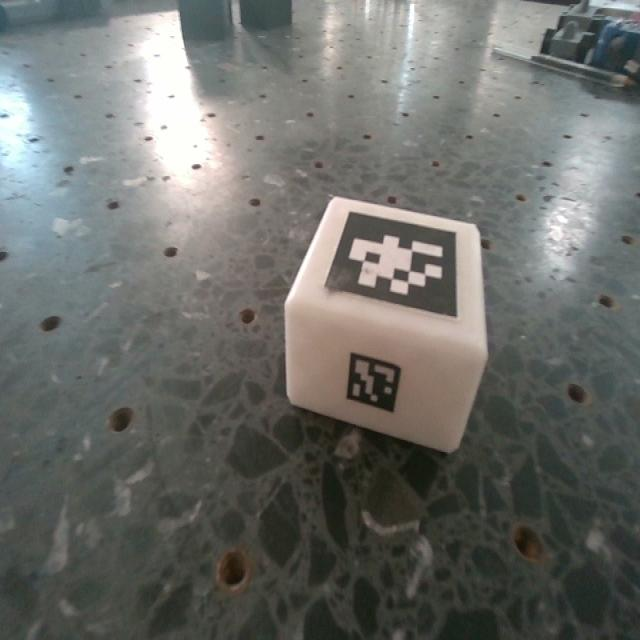Cube: (283, 197, 489, 456)
